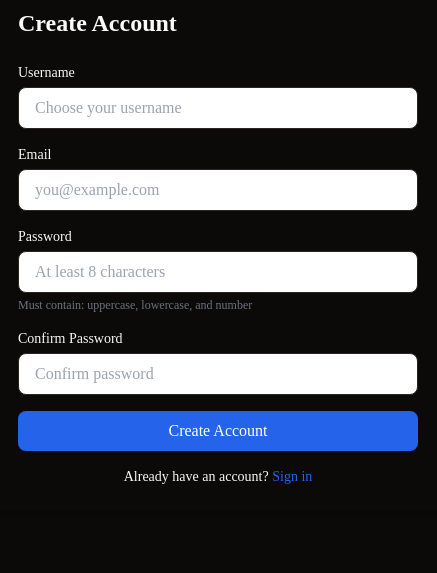
RegisterForm › shows detail error from API response
In the field with placeholder "Choose your username": (218, 108) [18,87,418,129], type "newuser"
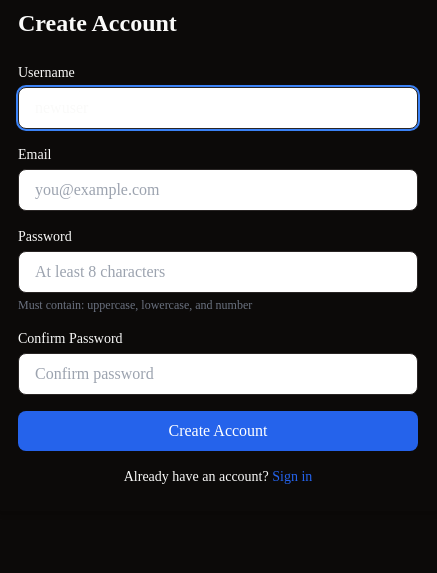
In the field with placeholder "you@example.com": (218, 190) [18,169,418,211], type "taken@example.com"
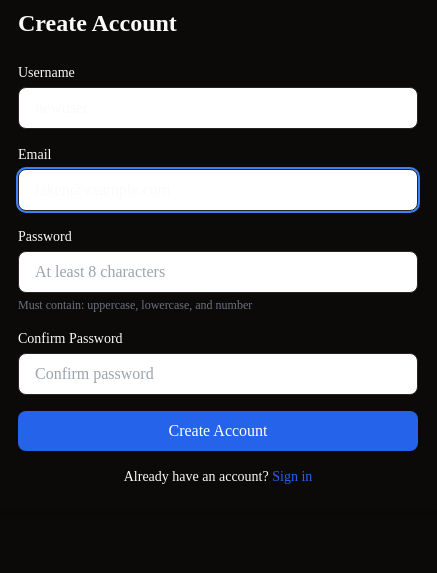
In the password field with placeholder "At least 8 characters": (218, 272) [18,251,418,293], type "Password1"
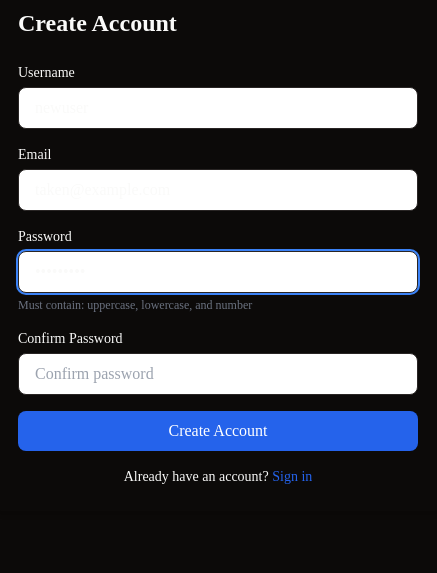
In the password field with placeholder "Confirm password": (218, 374) [18,353,418,395], type "Password1"
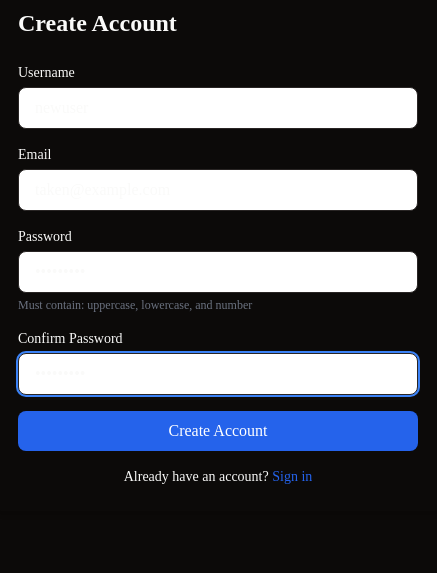
Click the button "Create Account": (218, 431) [18,411,418,451]
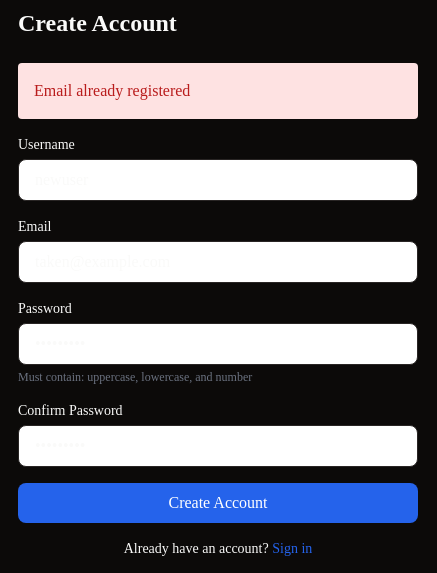
Now the text "Email already registered" is shown, box [18,63,418,119]
